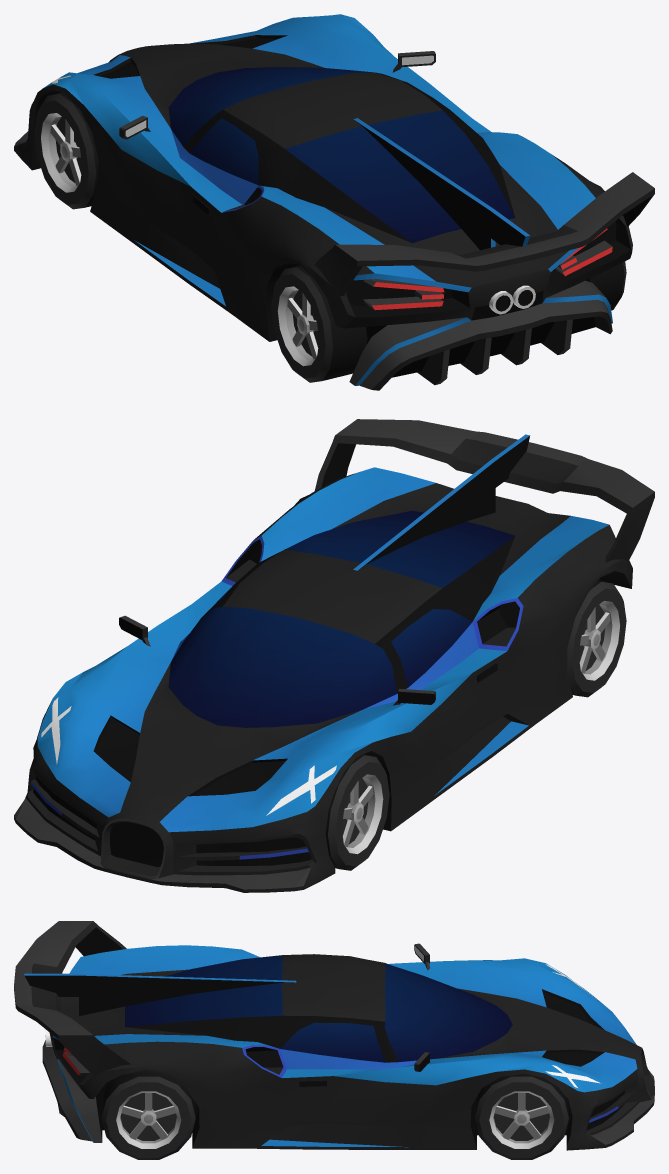
The model's file is Car_23.fbx.
The picture shows the model from 3 angles, top to bottom: view 1: azimuth 30°, elevation 25°; view 2: azimuth 150°, elevation 25°; view 3: azimuth 270°, elevation 25°; orthographic projection. The views are drawn at different scales.
Visible parts, largest first — view 1: Car_23, Car_23_Tire.002, Car_23_Tire.003, Car_23_Tire; view 2: Car_23, Car_23_Tire.003, Car_23_Tire.002; view 3: Car_23, Car_23_Tire, Car_23_Tire.001.
Boxes of the visible parts, <box> form: Car_23: <box>14,14,654,390</box>; Car_23_Tire.002: <box>271,265,367,382</box>; Car_23_Tire.003: <box>34,92,98,209</box>; Car_23_Tire: <box>586,261,626,310</box>; Car_23: <box>14,419,654,892</box>; Car_23_Tire.003: <box>325,754,389,870</box>; Car_23_Tire.002: <box>567,580,626,697</box>; Car_23: <box>14,921,654,1150</box>; Car_23_Tire: <box>101,1071,195,1159</box>; Car_23_Tire.001: <box>474,1073,568,1159</box>.
Bounding box in the file's own units: 2.11 × 1.05 × 4.72.
